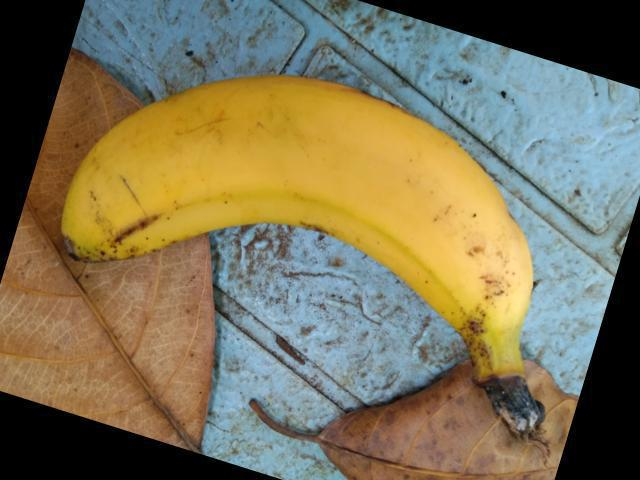freshripe: (58, 54, 536, 357)
